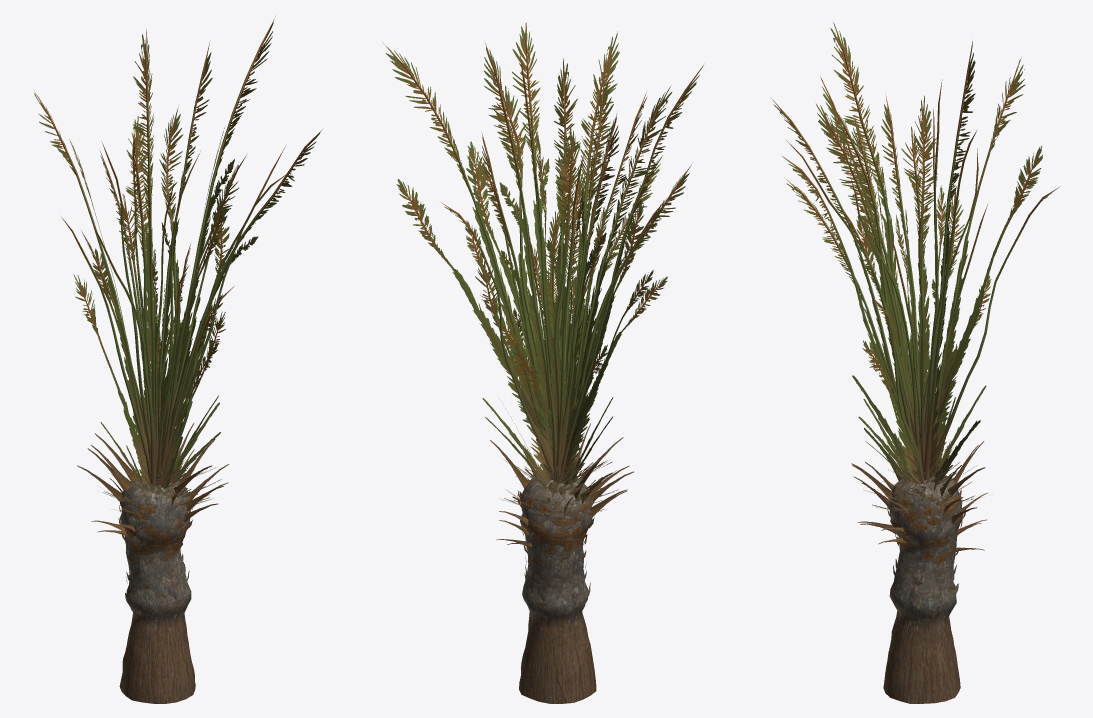
File: Plant - Alien Plant 03 3-DAc0q9kI.glb
3 renders of one model, left to right at view 1: azimuth 30°, elevation 25°; view 2: azimuth 150°, elevation 25°; view 3: azimuth 270°, elevation 25°, orthographic. The views are drawn at different scales.
Parts seen in each view (by area): view 1: Plant3_3_L0(Clone); view 2: Plant3_3_L0(Clone); view 3: Plant3_3_L0(Clone).
Boxes of the visible parts, left/top/right/bottom form: Plant3_3_L0(Clone): left=34, top=16, right=322, bottom=703; Plant3_3_L0(Clone): left=382, top=22, right=703, bottom=703; Plant3_3_L0(Clone): left=770, top=22, right=1059, bottom=703.
Bounding box in the file's own units: 2.62 × 5.6 × 2.59.
3 materials, 3 textured.
